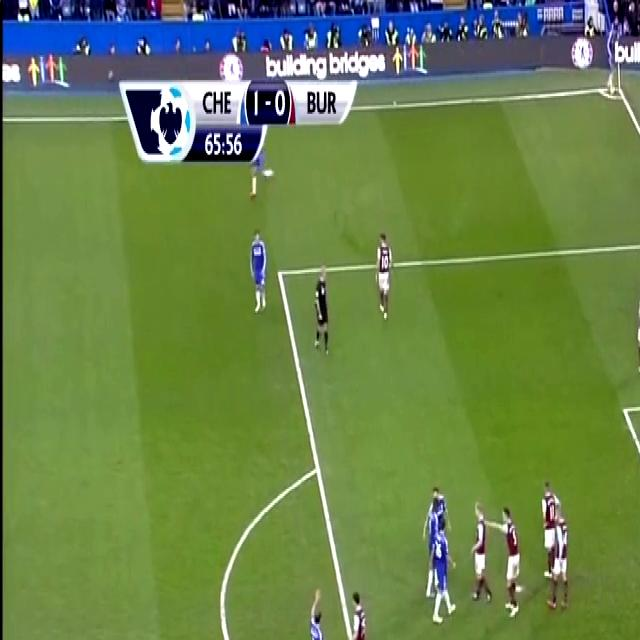referee: (311, 261, 337, 362)
soccer-player: (424, 493, 456, 628), (538, 470, 566, 610), (498, 498, 526, 622), (468, 495, 495, 610), (370, 224, 395, 326), (246, 119, 276, 204), (248, 226, 274, 321), (552, 504, 574, 616), (304, 581, 337, 640), (345, 581, 372, 640), (608, 27, 625, 99), (631, 278, 640, 380)
